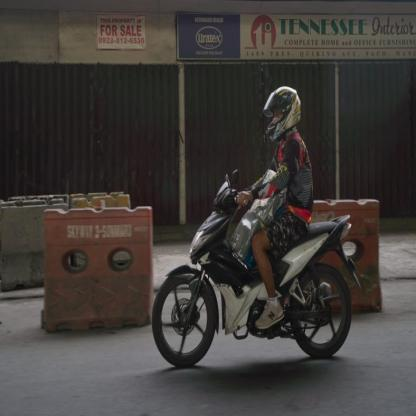helmet: (262, 86, 302, 143)
